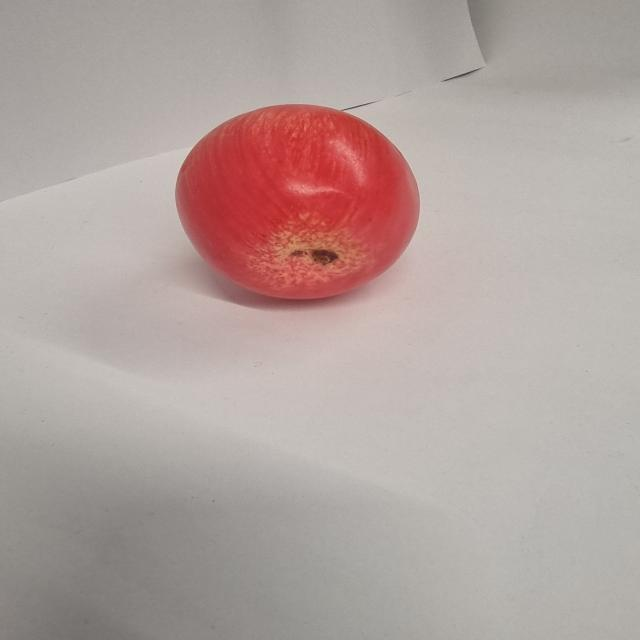apple: (177, 104, 422, 302)
